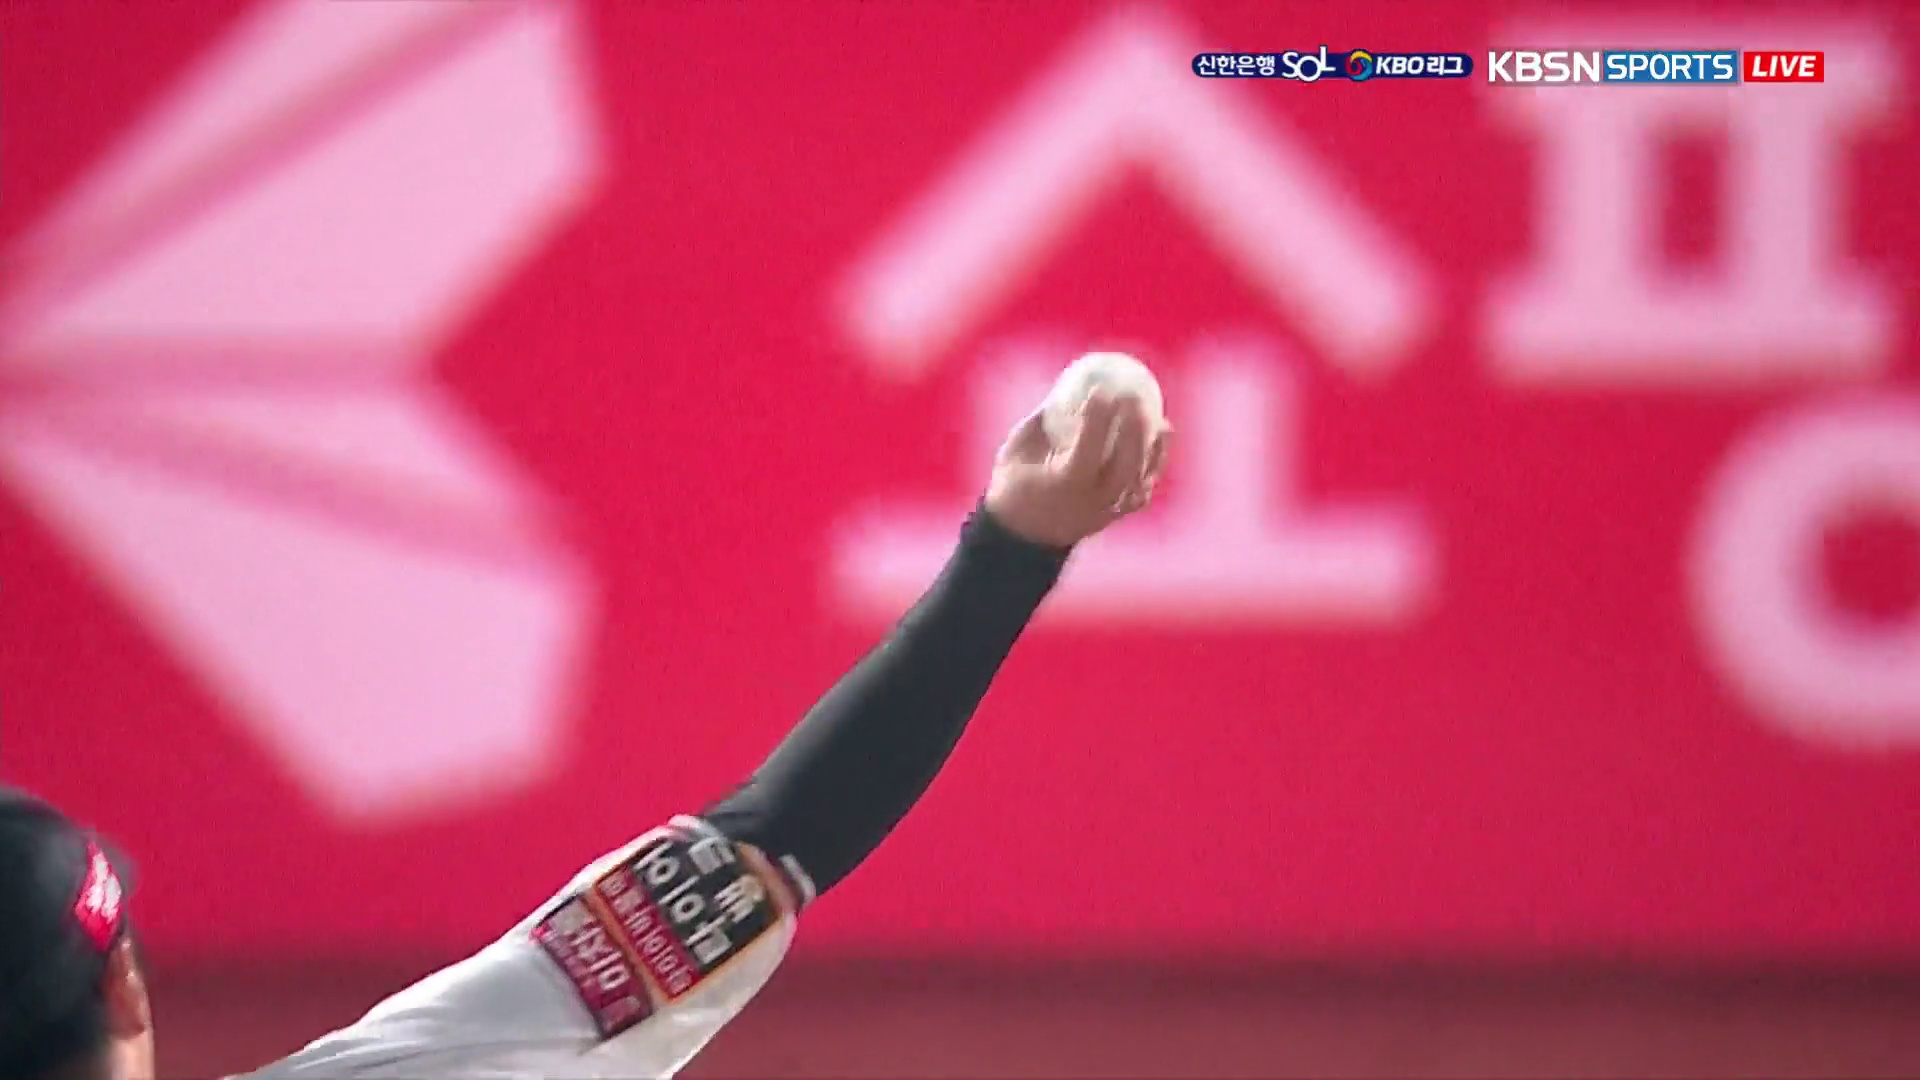zoomin_hand: (687, 339, 1187, 957)
